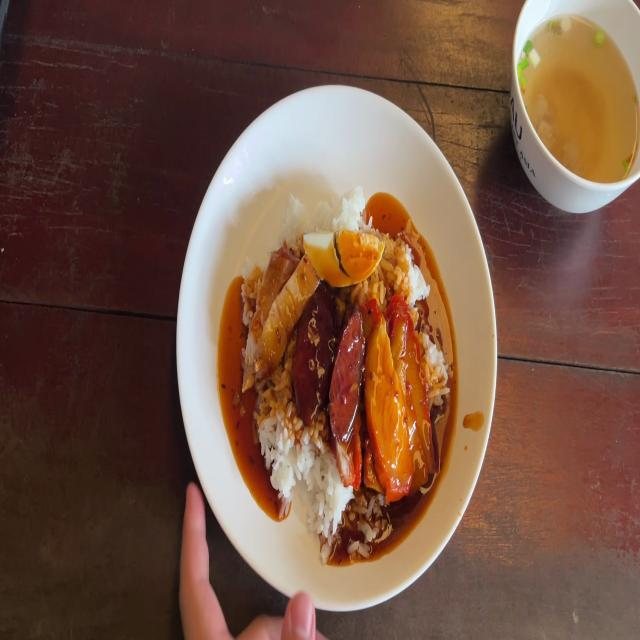01boiled_egg: (306, 230, 380, 290)
01chainese_sausage: (295, 290, 364, 434)
01crispy_pork: (245, 249, 305, 402)
01red_pork: (368, 313, 428, 486)
01red_pork_and_crispy_pork: (239, 201, 449, 548)
01rice: (257, 376, 304, 488), (301, 431, 341, 541), (378, 238, 432, 306)
